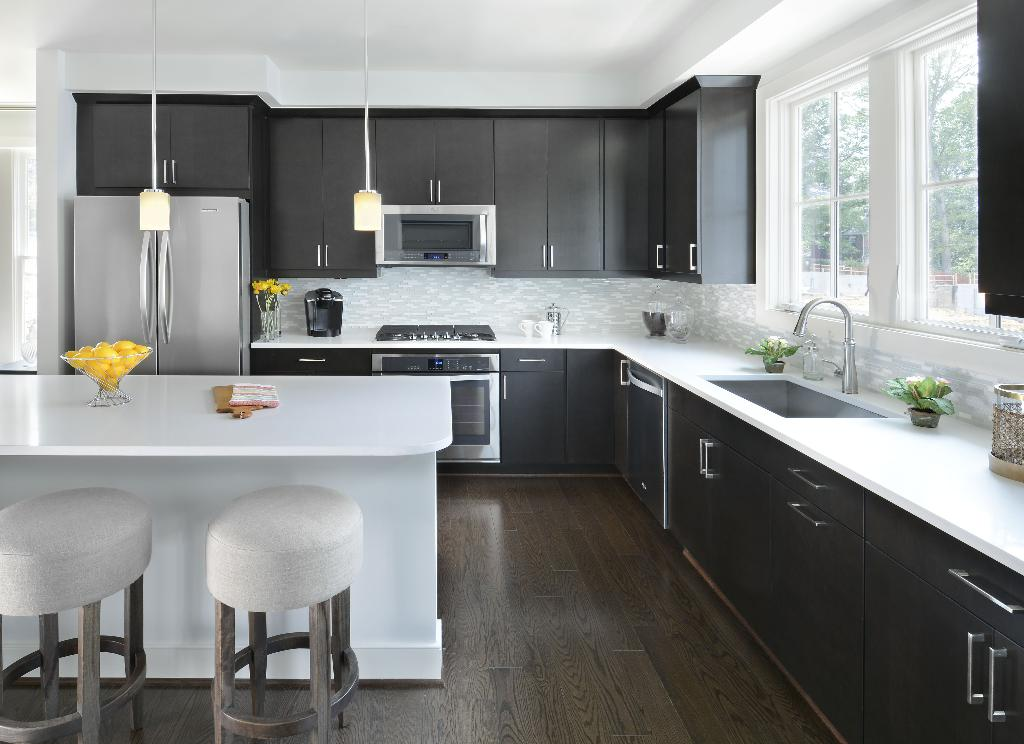cabinet door: (735, 488, 854, 639), (863, 589, 977, 738), (258, 116, 323, 273), (884, 528, 1020, 589), (495, 121, 550, 265), (161, 104, 247, 195), (76, 102, 159, 193), (328, 121, 374, 270), (554, 127, 600, 270), (367, 115, 434, 203), (664, 116, 699, 277), (504, 371, 562, 459), (702, 405, 733, 559), (755, 444, 838, 499), (670, 400, 699, 528), (438, 121, 484, 198), (991, 640, 1024, 744), (253, 347, 362, 375), (609, 359, 633, 462), (646, 127, 662, 274), (499, 348, 558, 371)
handle: (950, 566, 1015, 616), (982, 644, 1014, 722), (134, 228, 157, 336), (962, 629, 986, 719), (156, 226, 174, 334), (791, 499, 830, 535), (787, 465, 828, 497), (703, 438, 722, 480), (691, 431, 708, 474), (683, 235, 701, 274), (615, 355, 632, 391), (294, 352, 328, 370), (518, 352, 552, 369), (310, 238, 326, 271), (648, 239, 664, 271), (155, 155, 170, 187), (536, 240, 550, 270), (498, 373, 513, 401), (548, 240, 558, 271), (322, 239, 333, 267), (427, 177, 438, 204), (170, 156, 179, 185), (436, 178, 444, 204)
refrigerator door: (77, 200, 156, 370), (162, 197, 237, 367)
